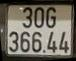.: (43, 50, 46, 53)
